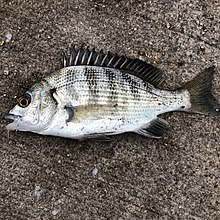kurodai: (2, 53, 218, 146)
